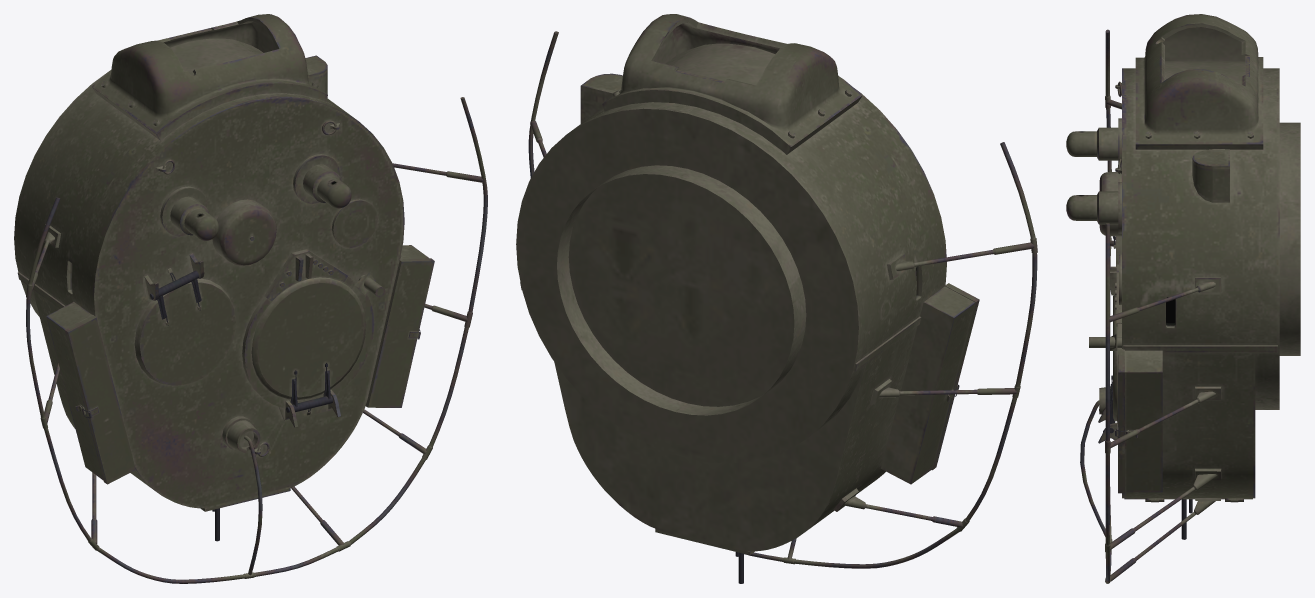
Rendered from Turret_02.glb.
3 views of the same model, side by side, from view 1: azimuth 30°, elevation 25°; view 2: azimuth 150°, elevation 25°; view 3: azimuth 270°, elevation 25° (orthographic). The views are drawn at different scales.
Parts seen in each view (by area): view 1: set_0_group_0; view 2: set_0_group_0; view 3: set_0_group_0.
Part boxes in pixels (bbox=[...]): set_0_group_0: bbox=[14, 14, 487, 583]; set_0_group_0: bbox=[516, 14, 1037, 583]; set_0_group_0: bbox=[1066, 14, 1300, 583].
Bounding box in the file's own units: 2.27 × 2.4 × 1.01.
Materials: 1 (1 with a texture image).
